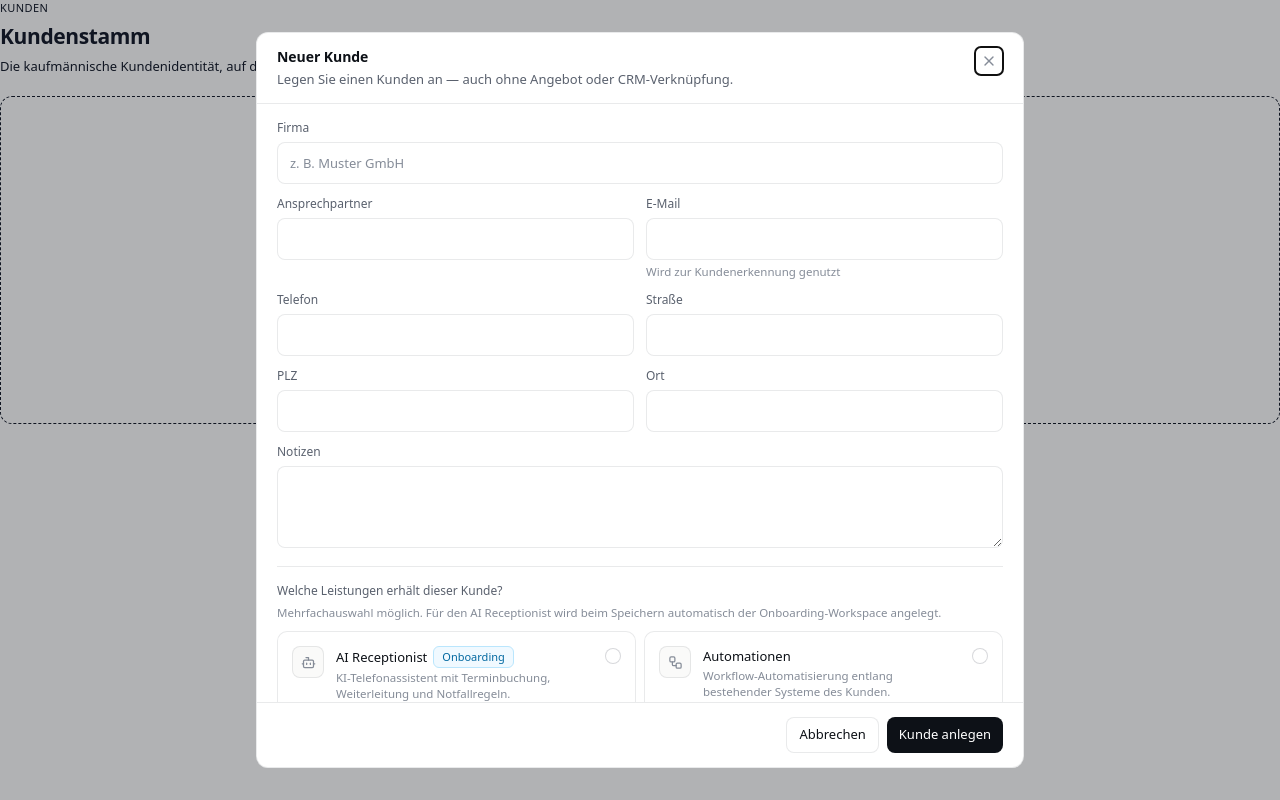
Test: the intent is consumed, not left in the URL › does not reopen the dialog after the owner closes it
Click the button "Abbrechen": (833, 735) [786, 717, 879, 753]
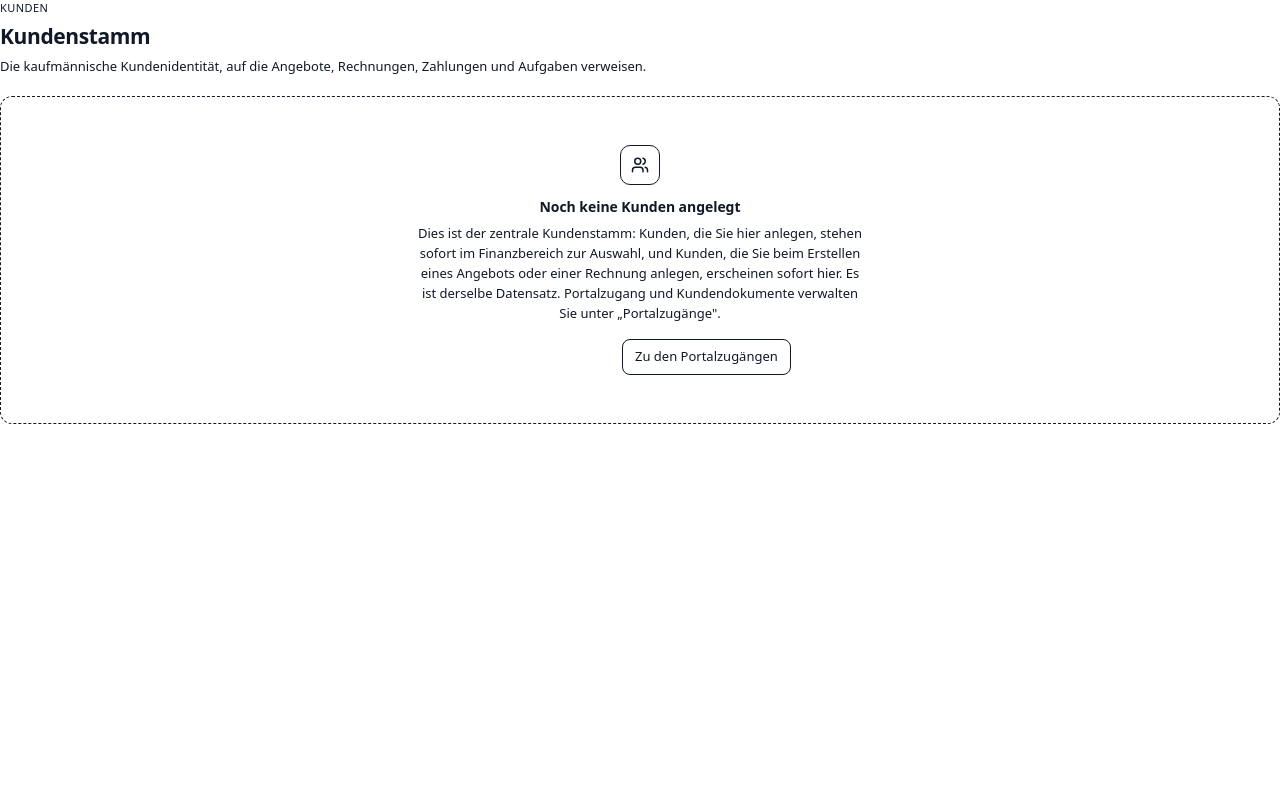
Now the dialog is gone
